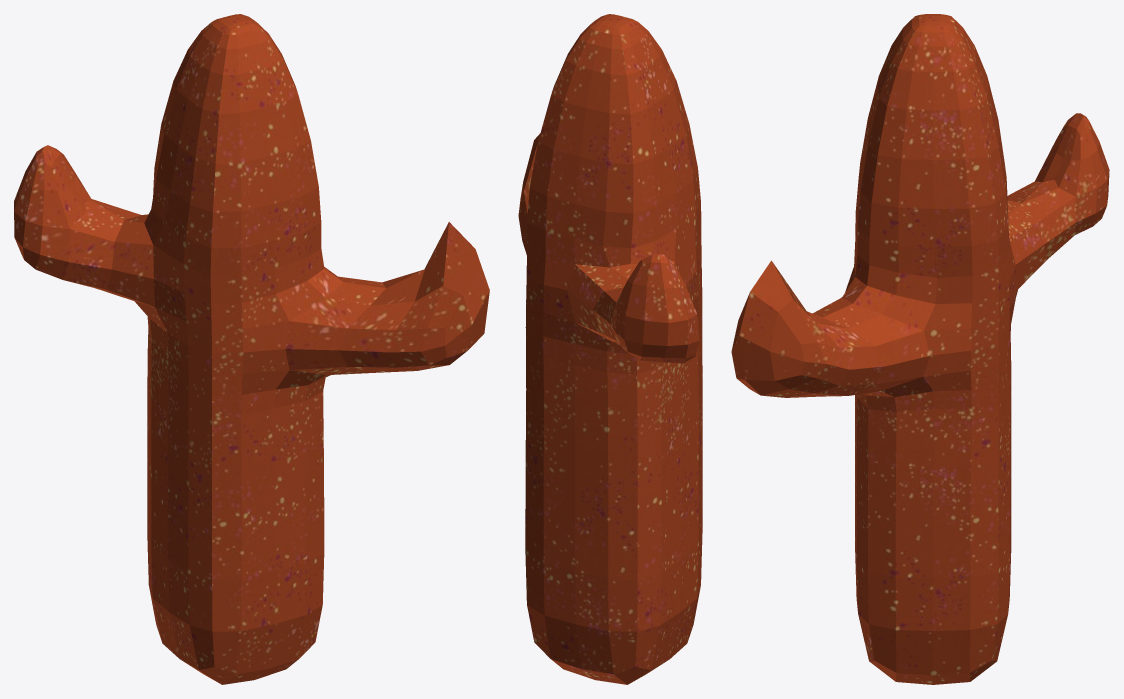
Rendered from Cactus.fbx.
The picture shows the model from 3 angles, left to right: view 1: azimuth 30°, elevation 25°; view 2: azimuth 150°, elevation 25°; view 3: azimuth 270°, elevation 25°; orthographic projection.
Parts seen in each view (by area): view 1: Cube; view 2: Cube; view 3: Cube.
Boxes of the visible parts, bbox=[...] form: Cube: bbox=[14, 14, 489, 684]; Cube: bbox=[518, 14, 702, 684]; Cube: bbox=[731, 14, 1109, 684].
Size of the model in its own units: 8.32 by 16.51 by 8.66.
1 material, 1 textured.
